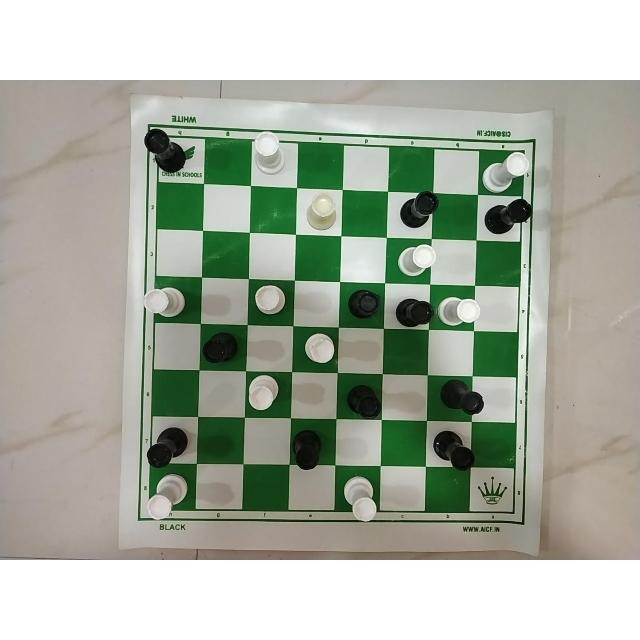black-rook: (140, 123, 192, 177), (481, 195, 535, 237), (145, 421, 194, 466), (429, 428, 477, 472), (436, 375, 486, 416), (396, 188, 439, 232), (341, 380, 385, 422), (288, 427, 325, 473), (392, 292, 436, 328), (198, 329, 240, 365), (343, 285, 384, 321)
white-rook: (146, 472, 192, 520), (248, 129, 292, 179), (341, 471, 383, 523), (481, 152, 531, 191), (140, 286, 192, 322), (437, 293, 483, 329), (301, 189, 340, 231), (249, 279, 288, 320), (243, 374, 282, 414), (395, 240, 437, 276), (300, 330, 338, 366)
